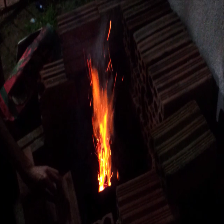fire_h: (85, 60, 112, 192)
fire_l: (105, 58, 112, 71), (107, 21, 112, 39), (116, 170, 119, 178)
